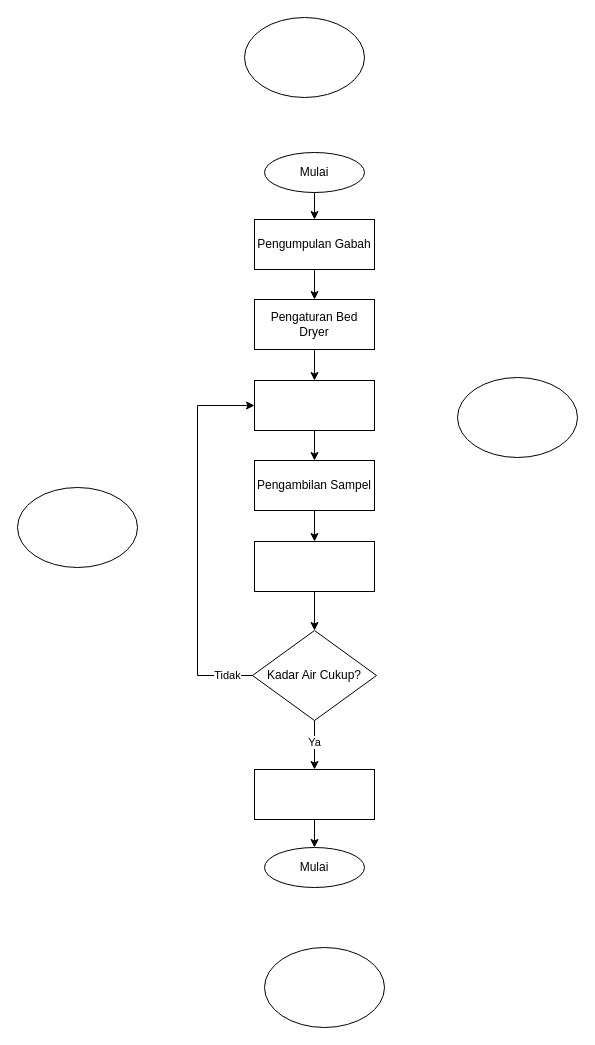
This 595x1045 diagram has some shape labels left out. Each missing label, with the centre of its shape:
"Cek Manual" belongs at (314,566).
"Matikan Bed Dryer" belongs at (314,794).
"Pengeringan Gabah" belongs at (314,405).
